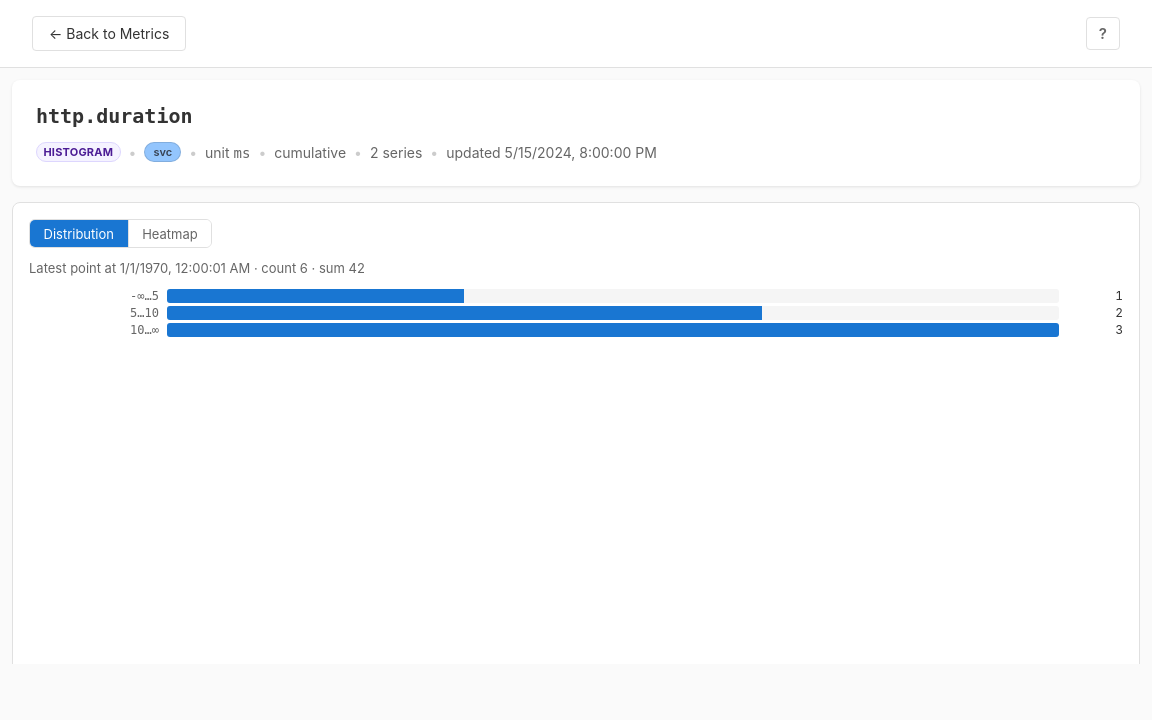
Scenario: renders histogram distribution bars from the latest point
Expected: the heading "http.duration" is shown, [36,104,192,128]
Expected: the text "-∞…5" is shown, [130,289,159,303]
Note: Switch to heatmap view (canvas) without crashing.
Click the button "Heatmap" at coordinates (170, 234), box [128,220,211,247]
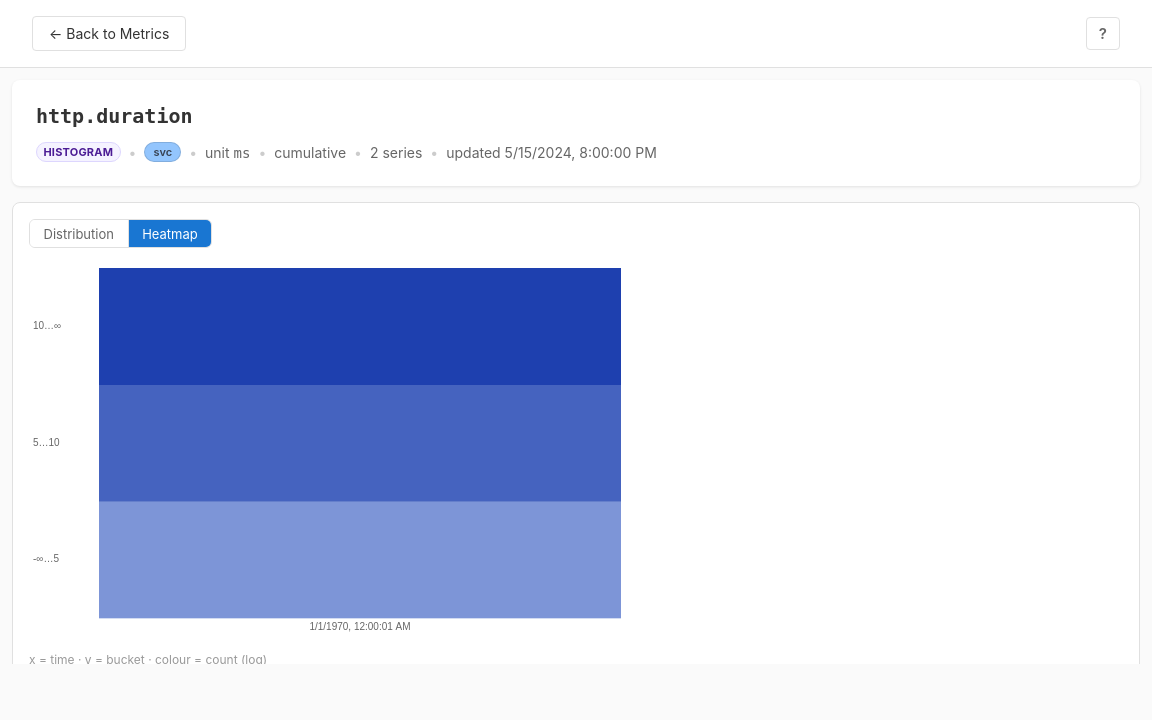
Now the drawing named "Histogram heatmap over time" is shown, box [29,260,629,640]
